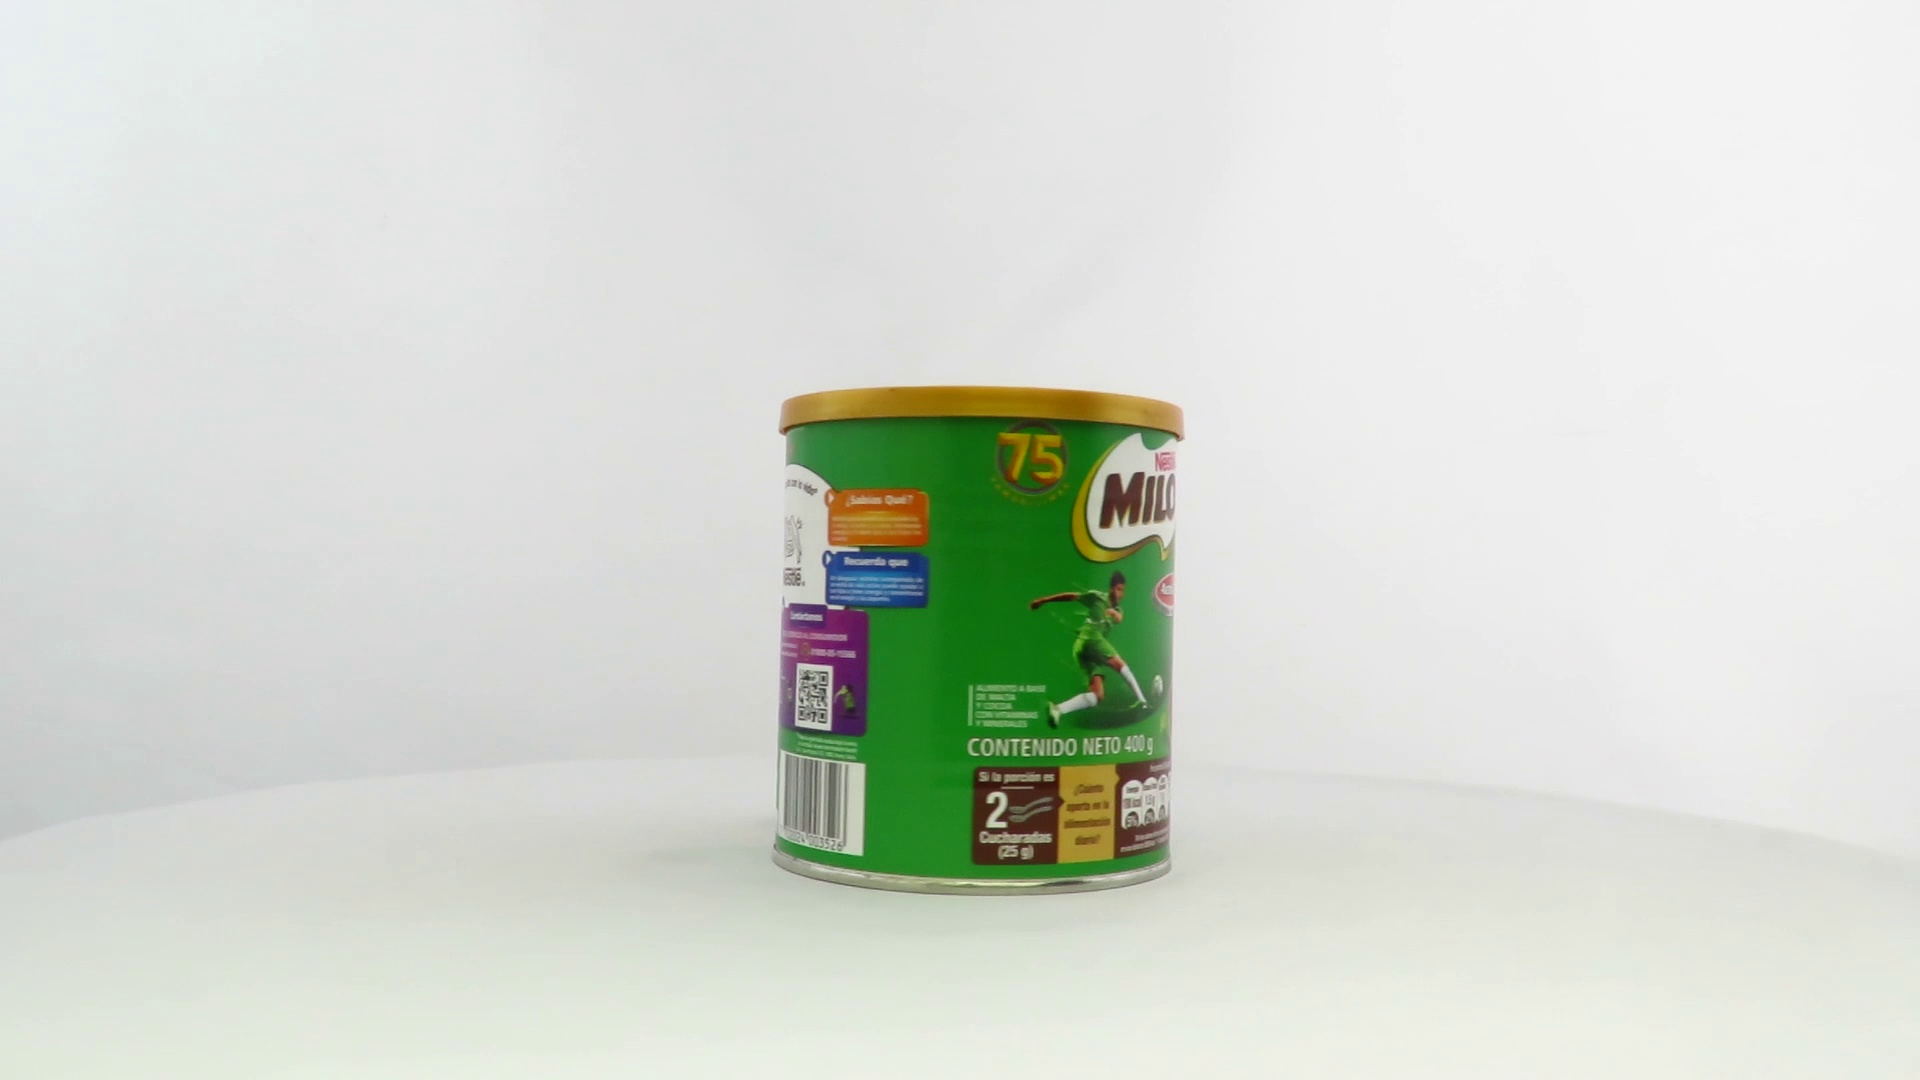COL0170203LAT40000: (766, 380, 1191, 903)
